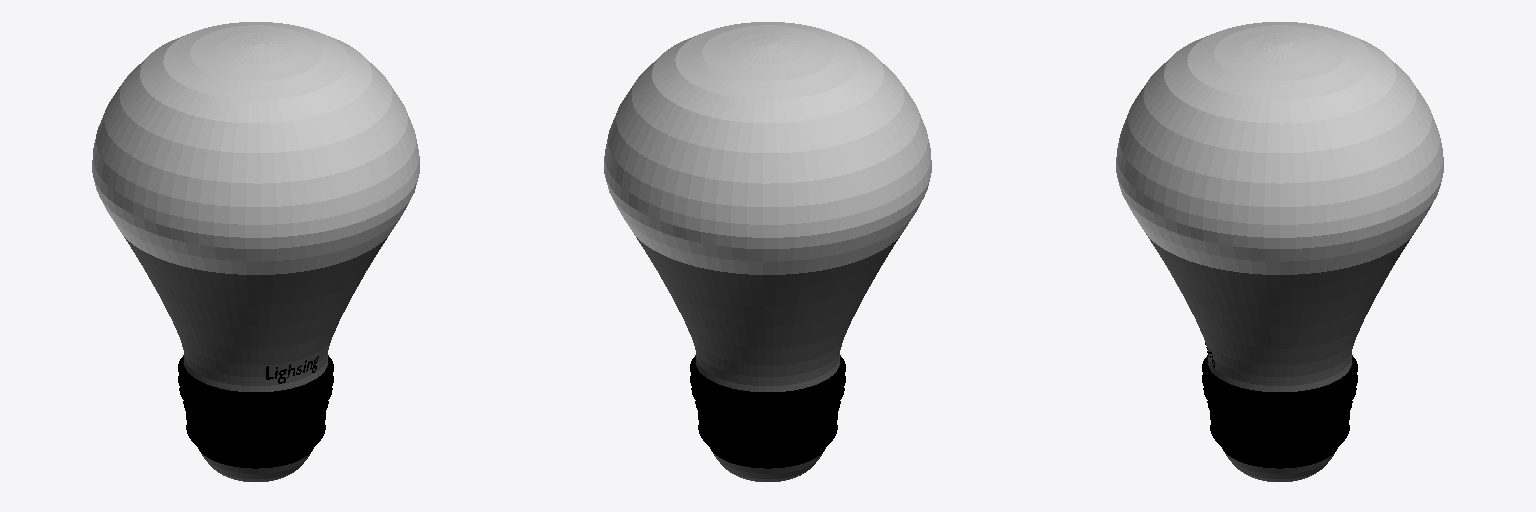
Rendered from Lamp.obj.
3 views of the same model, side by side, from view 1: azimuth 30°, elevation 25°; view 2: azimuth 150°, elevation 25°; view 3: azimuth 270°, elevation 25° (orthographic).
Visible parts, largest first — view 1: Cylinder; view 2: Cylinder; view 3: Cylinder.
Boxes of the visible parts, <box> form: Cylinder: <box>92,22,419,481</box>; Cylinder: <box>604,22,931,481</box>; Cylinder: <box>1116,22,1443,481</box>.
Size of the model in its own units: 6.66 by 9.45 by 6.66.